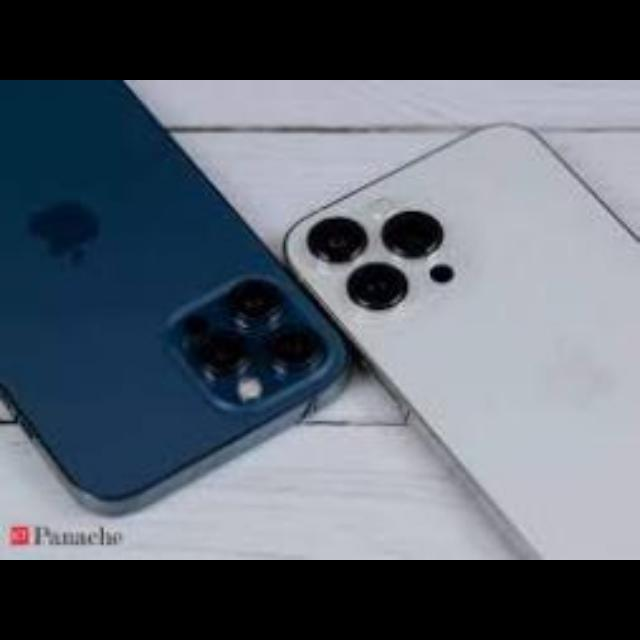Phone: (286, 125, 640, 560), (1, 80, 350, 516)
